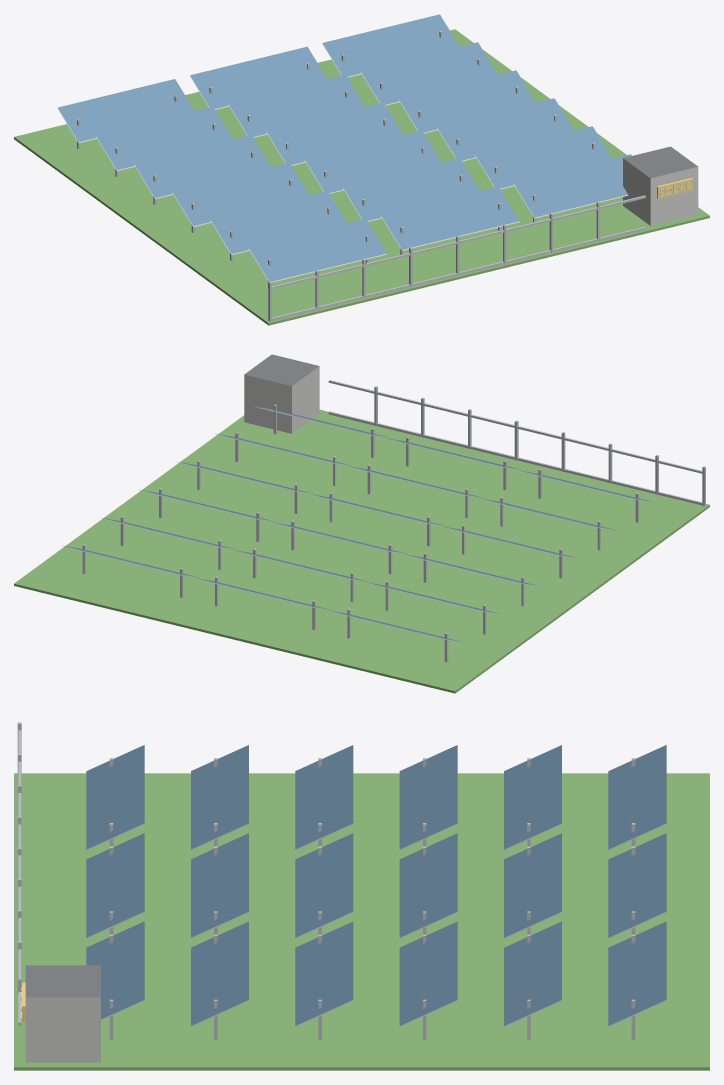
Rendered from solar_farm.glb.
3 views of the same model, one above another, from view 1: azimuth 30°, elevation 25°; view 2: azimuth 150°, elevation 25°; view 3: azimuth 270°, elevation 25° (orthographic). The views are drawn at different scales.
Visible parts, largest first — view 1: solar_farm; view 2: solar_farm; view 3: solar_farm.
Boxes of the visible parts, x1,y1,x2,y2 form: solar_farm: (14,14,709,325); solar_farm: (14,354,709,693); solar_farm: (14,722,709,1070).
Bounding box in the file's own units: 24 × 2.6 × 24.
